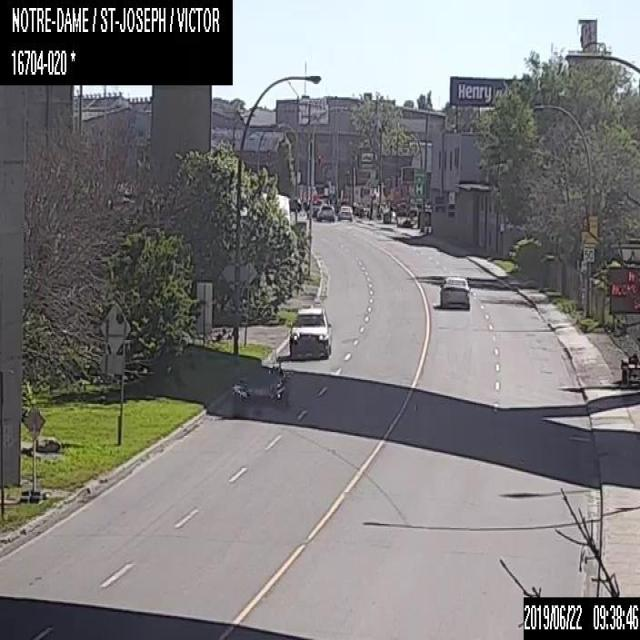construction: (606, 237, 639, 389)
vehicle: (231, 368, 285, 416), (289, 307, 331, 357), (439, 276, 470, 309), (316, 204, 334, 221), (337, 206, 352, 220)
